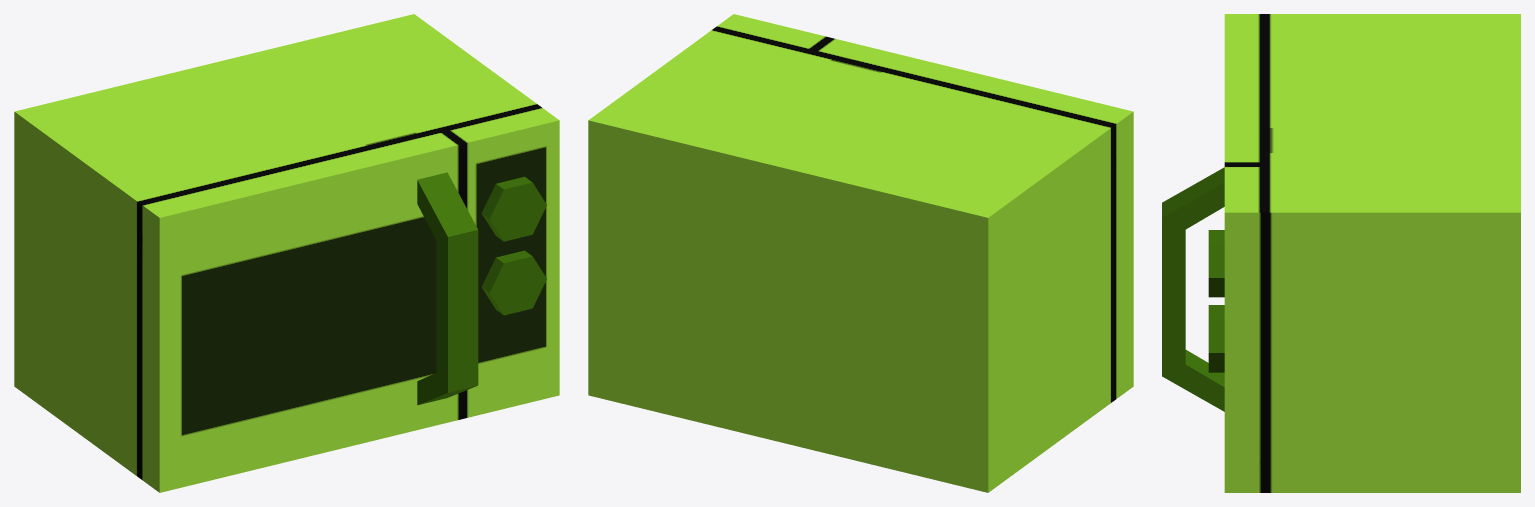
The model's file is microwave1_PLY.fbx.
The picture shows the model from 3 angles, left to right: view 1: azimuth 30°, elevation 25°; view 2: azimuth 150°, elevation 25°; view 3: azimuth 270°, elevation 25°; orthographic projection.
Parts seen in each view (by area): view 1: microwave1_PLY; view 2: microwave1_PLY; view 3: microwave1_PLY.
Boxes of the visible parts, x1,y1,x2,y2 form: microwave1_PLY: [14, 14, 559, 492]; microwave1_PLY: [588, 14, 1133, 492]; microwave1_PLY: [1162, 14, 1520, 492].
Size of the model in its own units: 2.38 by 1.56 by 1.82.
